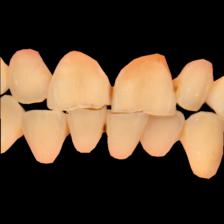cavity: (64, 121, 74, 136), (102, 114, 109, 133)
tooth: (18, 55, 90, 204), (8, 49, 51, 104)
